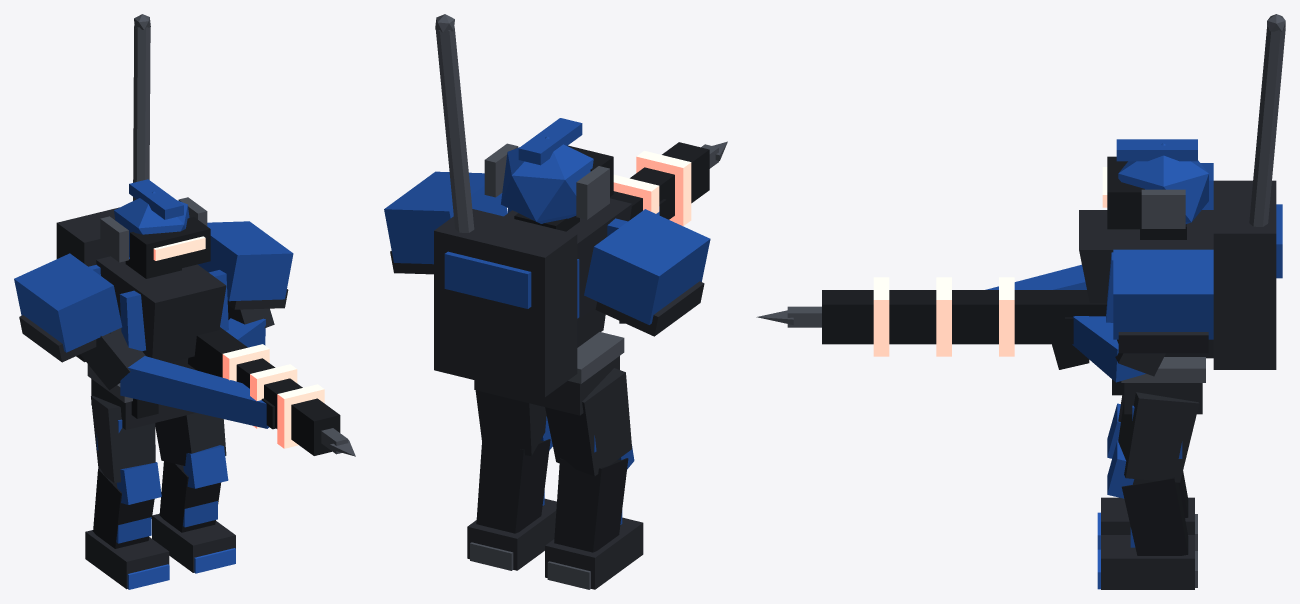
Rendered from tech.glb.
The picture shows the model from 3 angles, left to right: view 1: azimuth 30°, elevation 25°; view 2: azimuth 150°, elevation 25°; view 3: azimuth 270°, elevation 25°; orthographic projection. The views are drawn at different scales.
Visible parts, largest first — view 1: TechBody, TechLegL, TechLegR, TechGlow; view 2: TechBody, TechLegL, TechLegR, TechGlow; view 3: TechBody, TechLegR, TechGlow, TechLegL.
Boxes of the visible parts, box(x1,y1,x2,y2) form: TechBody: box(14, 14, 355, 456); TechLegL: box(85, 396, 169, 589); TechLegR: box(152, 413, 235, 573); TechGlow: box(153, 236, 324, 448); TechBody: box(384, 14, 727, 415); TechLegL: box(545, 368, 643, 589); TechLegR: box(467, 390, 556, 570); TechGlow: box(613, 150, 691, 225); TechBody: box(756, 14, 1285, 414); TechLegR: box(1097, 392, 1199, 589); TechGlow: box(873, 167, 1107, 356); TechLegL: box(1097, 395, 1197, 550).
Bounding box in the file's own units: 0.991 × 2 × 1.69.
